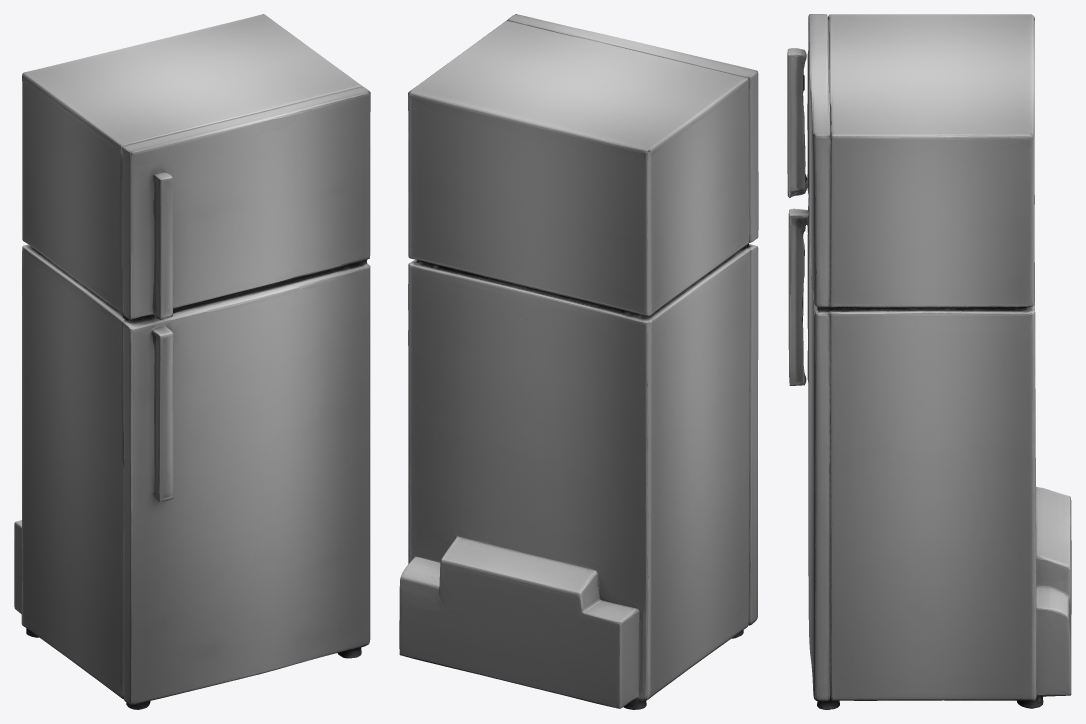
The model's file is fridge.glb.
3 views of the same model, side by side, from view 1: azimuth 30°, elevation 25°; view 2: azimuth 150°, elevation 25°; view 3: azimuth 270°, elevation 25° (orthographic). The views are drawn at different scales.
Parts seen in each view (by area): view 1: world; view 2: world; view 3: world.
Part boxes in pixels (<box>): world: <box>14,14,370,709</box>; world: <box>399,14,758,709</box>; world: <box>787,14,1071,709</box>.
Bounding box in the file's own units: 0.454 × 1 × 0.4463.
Materials: 1 (1 with a texture image).
